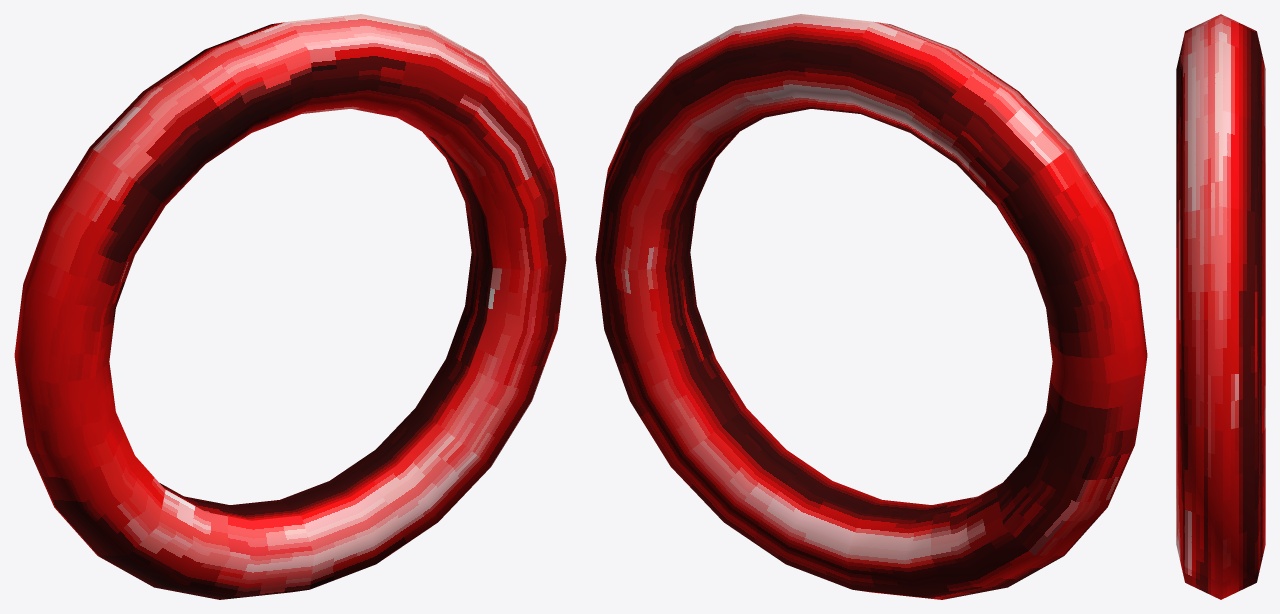
Rendered from RedRing.gltf.
3 renders of one model, left to right at view 1: azimuth 30°, elevation 25°; view 2: azimuth 150°, elevation 25°; view 3: azimuth 270°, elevation 25°, orthographic. The views are drawn at different scales.
Parts seen in each view (by area): view 1: RedRing; view 2: RedRing; view 3: RedRing.
Boxes of the visible parts, x1,y1,x2,y2 form: RedRing: (14,14,566,599); RedRing: (595,14,1147,599); RedRing: (1176,14,1265,599).
Size of the model in its own units: 0.8 by 0.8 by 0.1219.
1 material, 1 textured.
